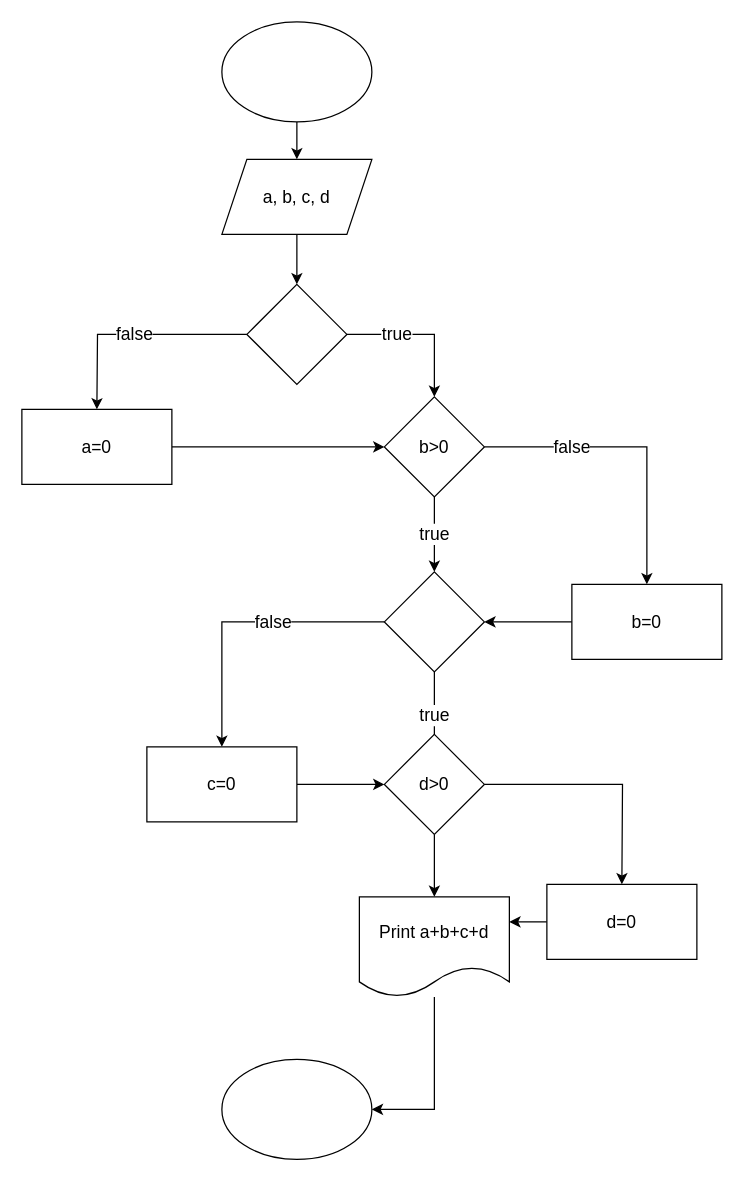
Some shapes in this 744 by 1181 pixel diagram are drawn without their labels. The shapes that lost their labels are listed below. From the top down, each one's centre as x and y in pixels, then its label:
At (296,71): "Start".
At (296,333): "a>0".
At (433,621): "c>0".
At (296,1108): "End".
